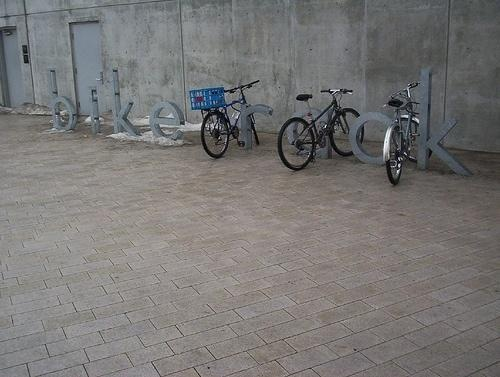bicycle: (277, 87, 366, 173), (190, 80, 262, 161), (383, 80, 434, 189)
